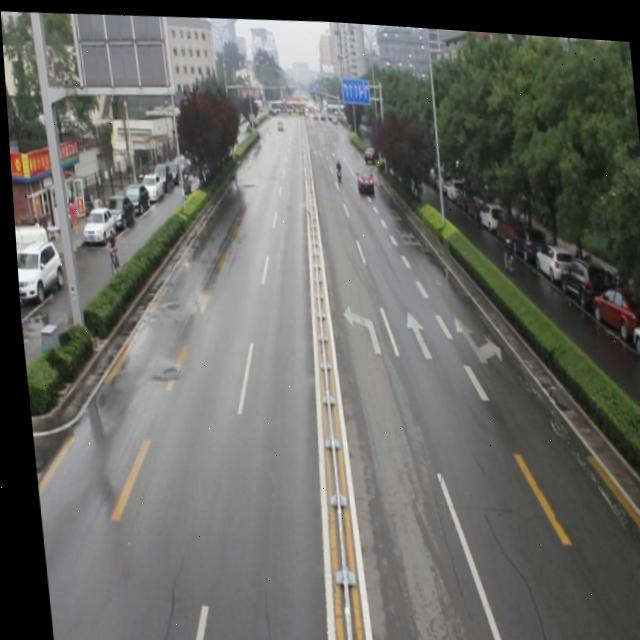car: (353, 165, 372, 189)
